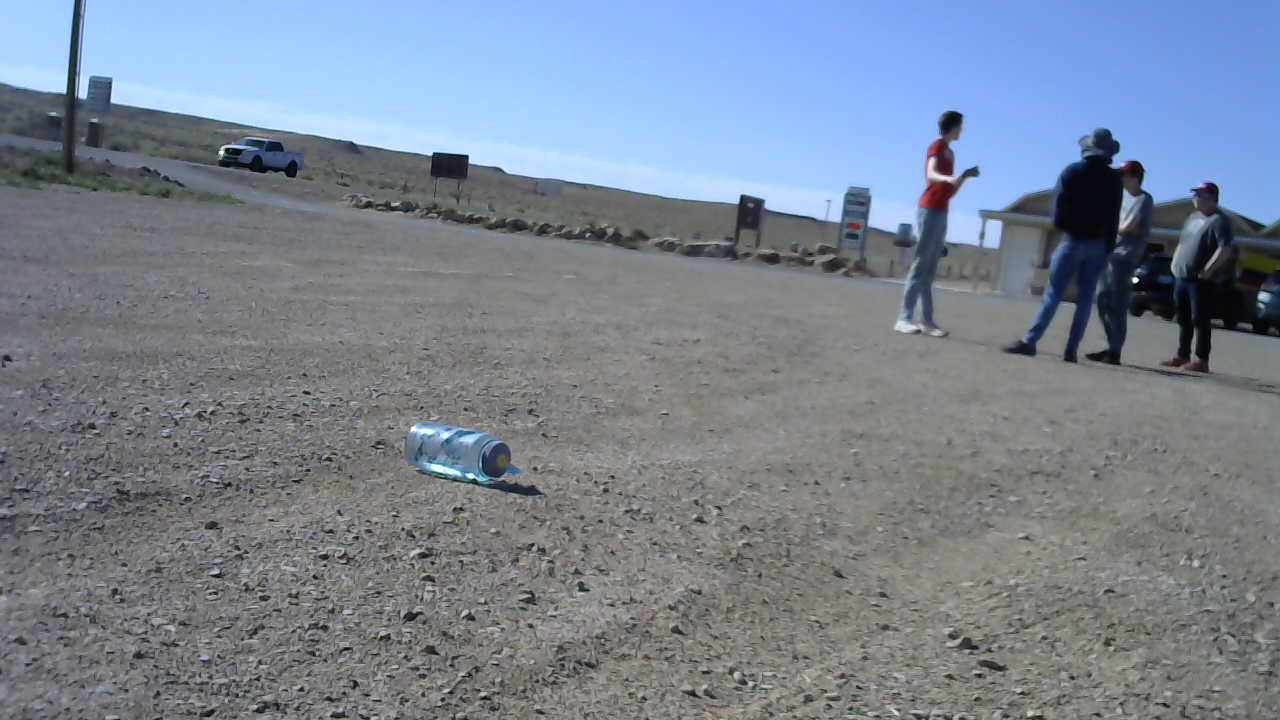bottle: (403, 413, 522, 482)
